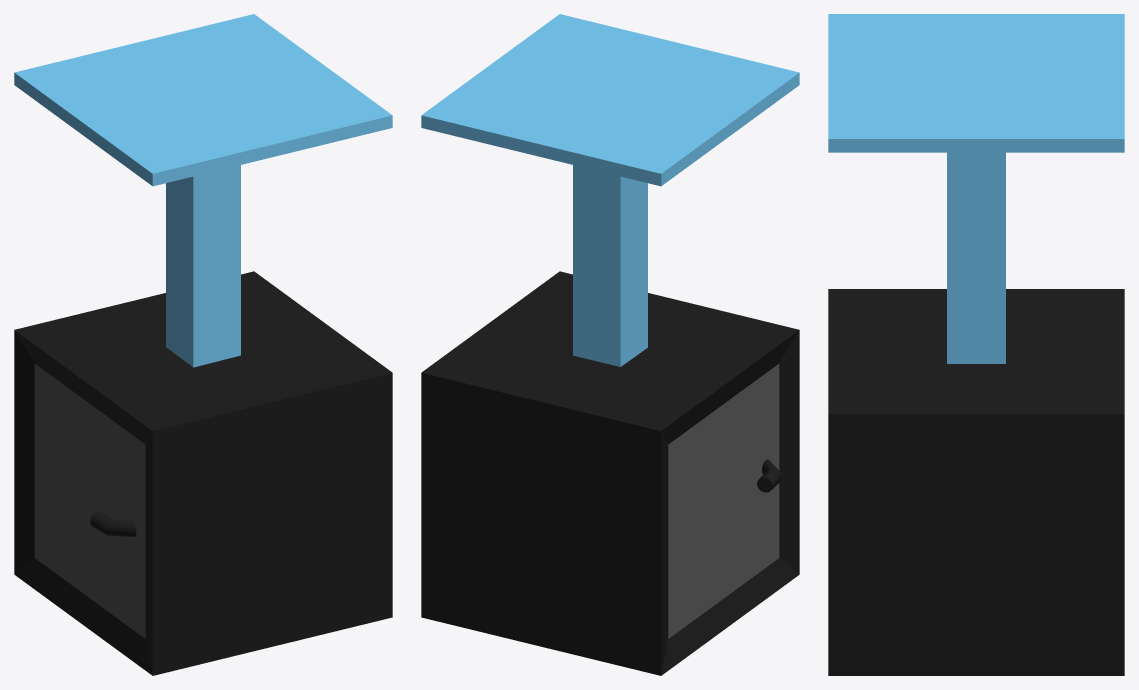
File: closetMiddle.FBX
3 renders of one model, left to right at view 1: azimuth 30°, elevation 25°; view 2: azimuth 150°, elevation 25°; view 3: azimuth 270°, elevation 25°, orthographic. The views are drawn at different scales.
Parts seen in each view (by area): view 1: Box001; view 2: Box001; view 3: Box001.
Part boxes in pixels (x1,y1,x2,y2): Box001: [14, 14, 392, 675]; Box001: [421, 14, 799, 675]; Box001: [828, 14, 1124, 675].
Size of the model in its own units: 1.07 by 2 by 1.
